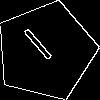I: (21, 26, 62, 70)
